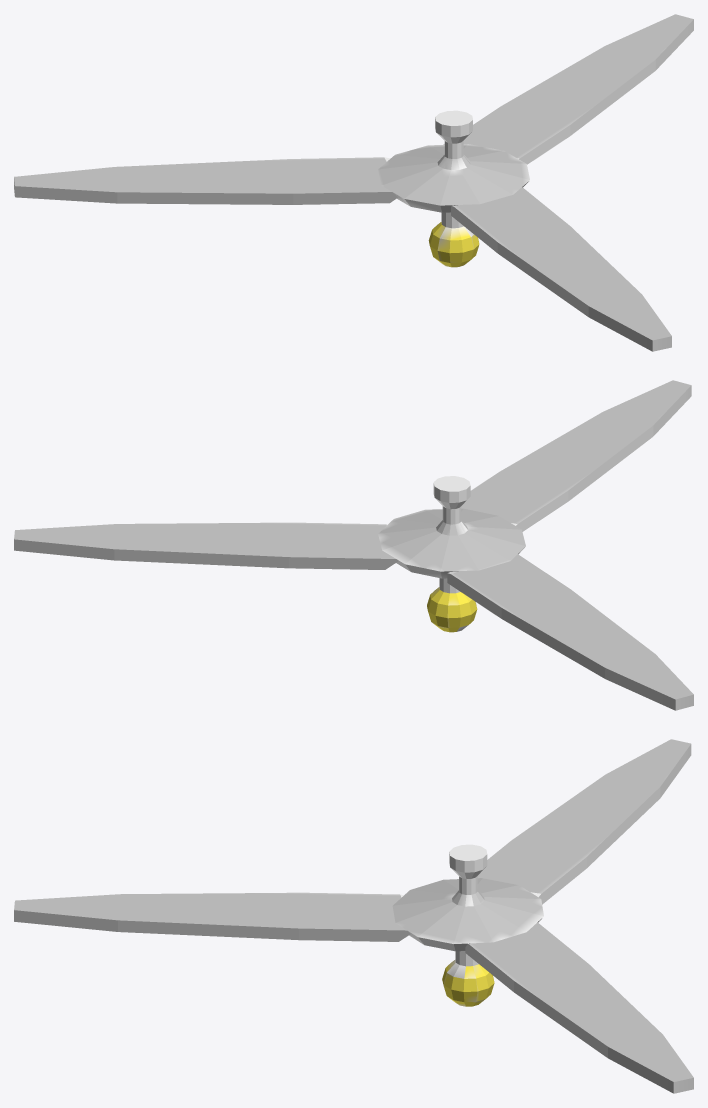
The model's file is lamp.obj.
3 views of the same model, one above another, from view 1: azimuth 30°, elevation 25°; view 2: azimuth 150°, elevation 25°; view 3: azimuth 270°, elevation 25° (orthographic). The views are drawn at different scales.
Visible parts, largest first — view 1: sphere_selection, sphere; view 2: sphere_selection, sphere; view 3: sphere_selection, sphere.
Part boxes in pixels (x1,y1,x2,y2): sphere_selection: (14,14,693,351); sphere: (378,110,529,267); sphere_selection: (14,380,693,710); sphere: (378,476,525,632); sphere_selection: (14,739,693,1093); sphere: (392,844,543,1006).
Size of the model in its own units: 3.94 by 0.8125 by 3.3.
1 material, 1 textured.
